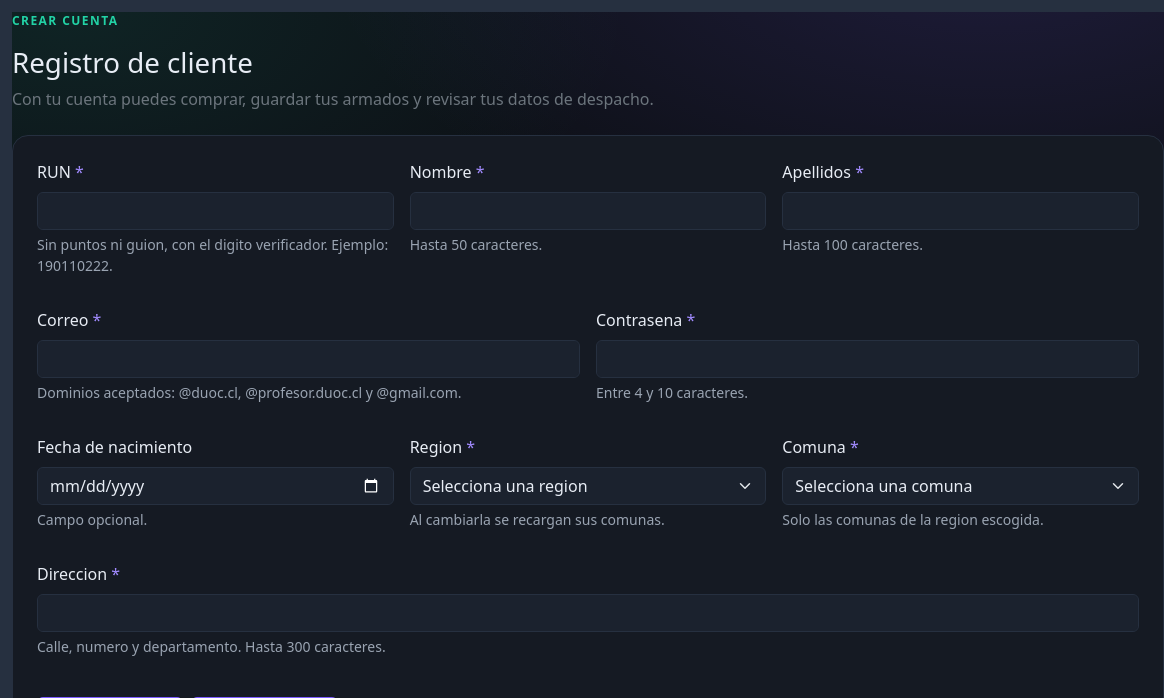
Test: Registro › rechaza un correo de un dominio no permitido
Type "ana@hotmail.com" into the field labelled "Correo *" at (308, 359), box [37,340,580,378]
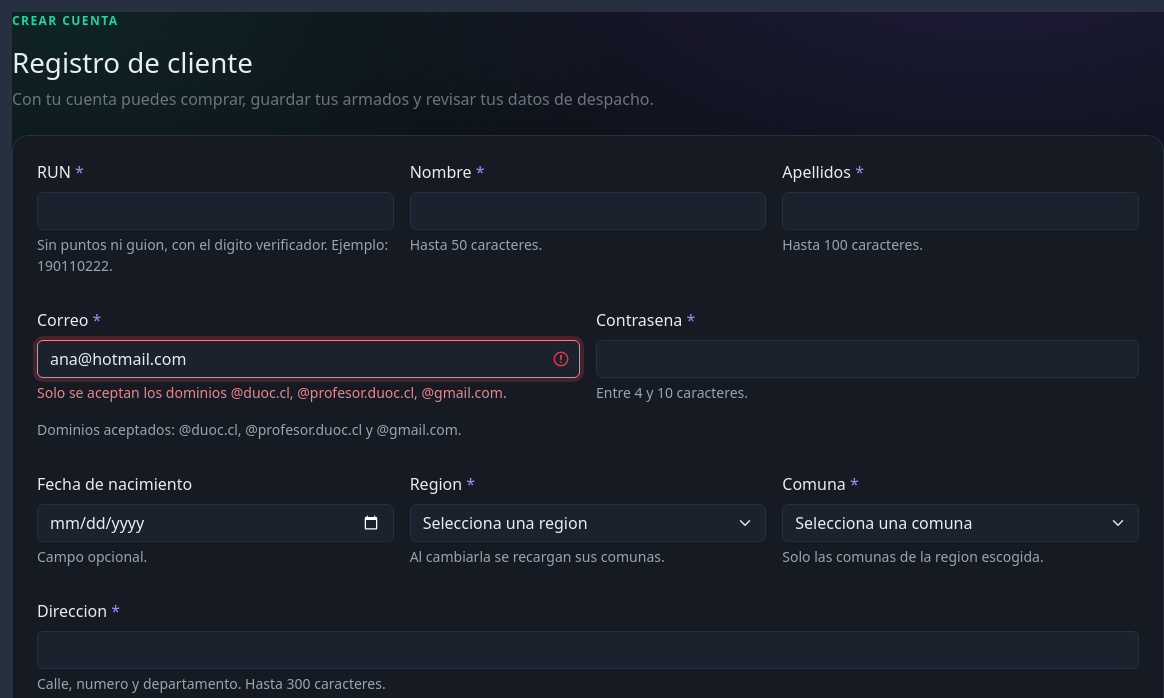
Expected: the text "Solo se aceptan los dominios" is shown, [37,383,507,402]
